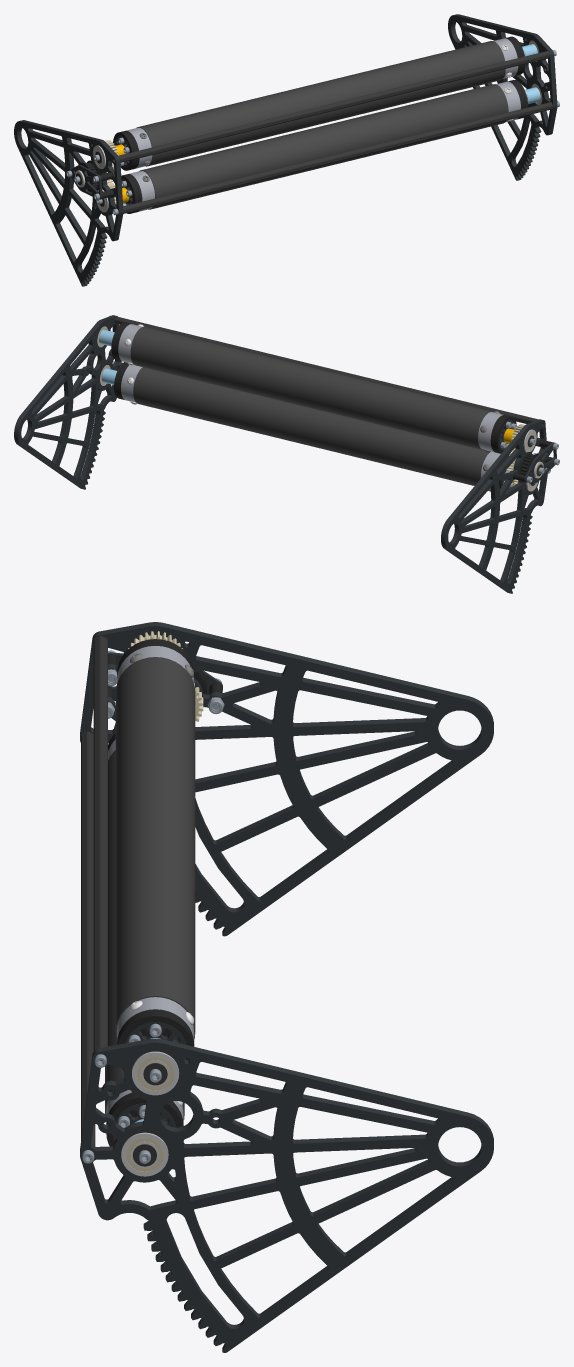
3 renders of one model, top to bottom at view 1: azimuth 30°, elevation 25°; view 2: azimuth 150°, elevation 25°; view 3: azimuth 270°, elevation 25°, orthographic. The views are drawn at different scales.
Parts seen in each view (by area): view 1: 3467-2026-B-0410 (×2), 3467-2026-B-0405 (×2), 3467-2026-B-0421 (×2), 3467-2026-B-0408 (×2), 3467-2026-B-0413, 3467-2026-B-0412; view 2: 3467-2026-B-0410 (×2), 3467-2026-B-0405 (×2), 3467-2026-B-0421, 3467-2026-B-0408 (×2), 3467-2026-B-0413, 3467-2026-B-0412; view 3: 3467-2026-B-0405 (×2), 3467-2026-B-0410 (×2), 3467-2026-B-0421 (×2), 1/2" Rounded Hex (13.75mm) ID Bearing (1.125" OD, 0.313" WD, (×2), 3467-2026-B-0412 (×2), 3467-2026-B-0408.
Part boxes in pixels (x1,y1,x2,y2): 3467-2026-B-0410 (×2): (136,41,508,209); 3467-2026-B-0405 (×2): (14,14,557,286); 3467-2026-B-0421 (×2): (118,51,552,213); 3467-2026-B-0408 (×2): (127,38,520,211); 3467-2026-B-0413: (69,165,102,199); 3467-2026-B-0412: (113,130,139,170); 3467-2026-B-0410 (×2): (130,326,492,485); 3467-2026-B-0405 (×2): (14,315,547,593); 3467-2026-B-0421: (114,316,538,423); 3467-2026-B-0408 (×2): (118,324,503,488); 3467-2026-B-0413: (524,442,556,482); 3467-2026-B-0412: (490,415,516,453); 3467-2026-B-0405 (×2): (80,622,493,1352); 3467-2026-B-0410 (×2): (105,657,195,1120); 3467-2026-B-0421 (×2): (81,636,107,1146); 1/2" Rounded Hex (13.75mm) ID Bearing (1.125" OD, 0.313" WD, (×2): (121,1051,179,1176); 3467-2026-B-0412 (×2): (106,1009,194,1146); 3467-2026-B-0408: (117,646,194,1043).
Bounding box in the file's own units: 0.6899 × 0.2292 × 0.2722.
